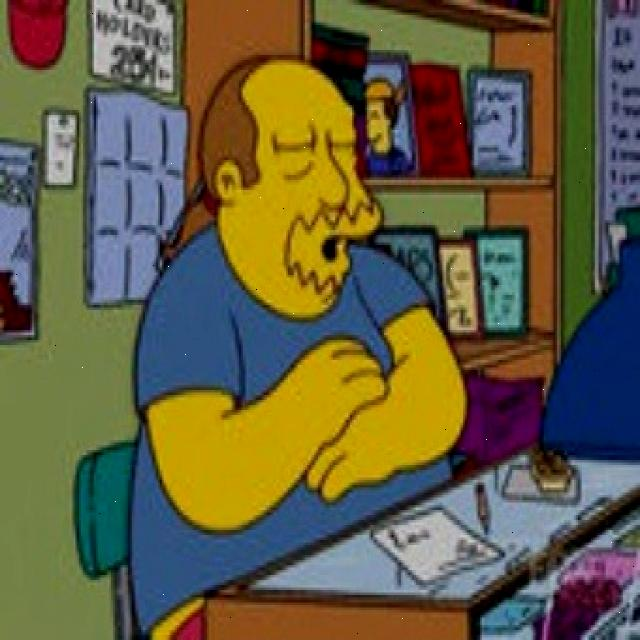Comic Book Guy: (192, 54, 388, 326)
